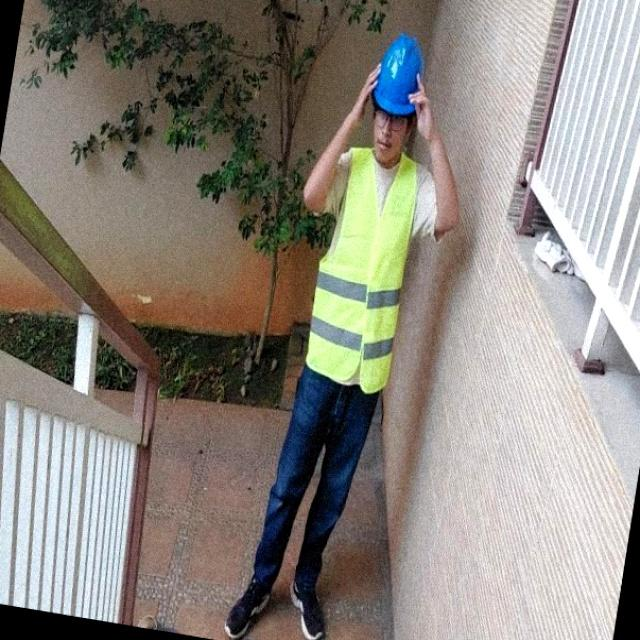Capacete: (373, 33, 422, 115)
Colete: (307, 148, 416, 392)
